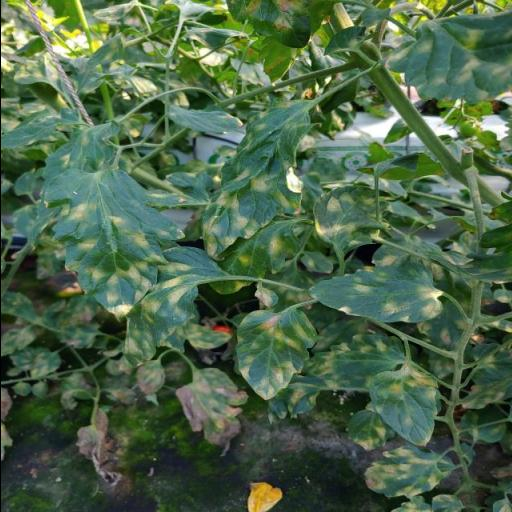Leaf Mold: (42, 167, 186, 317), (200, 98, 318, 258), (121, 246, 227, 368), (382, 10, 512, 104), (304, 263, 442, 323), (232, 310, 316, 400), (174, 367, 248, 457), (302, 334, 406, 388), (369, 369, 439, 447), (312, 186, 388, 256), (361, 446, 447, 500)
